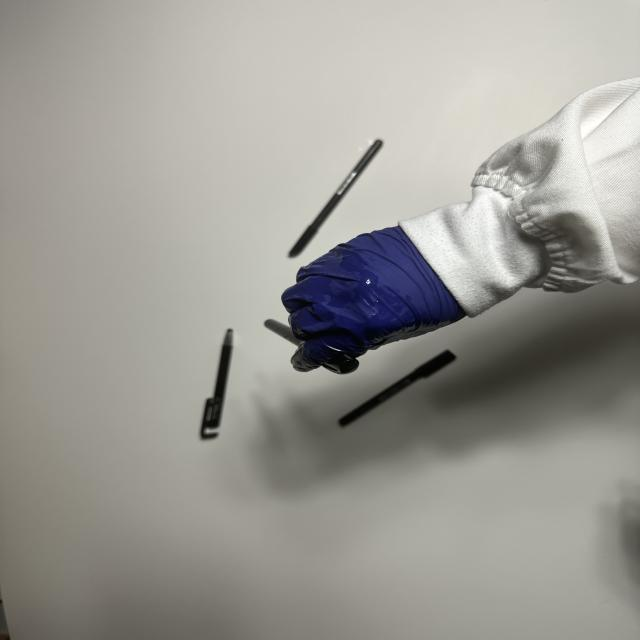gloves_contaminated: (282, 226, 466, 372)
